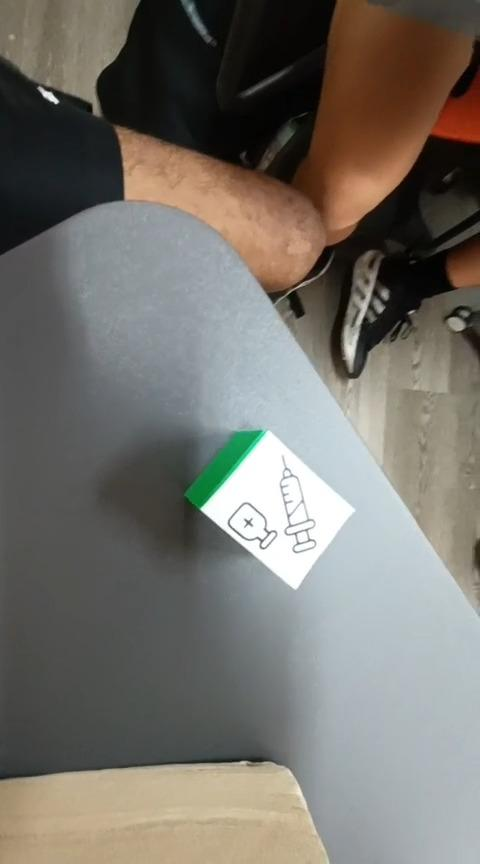antiseptic cream: (182, 427, 355, 591)
